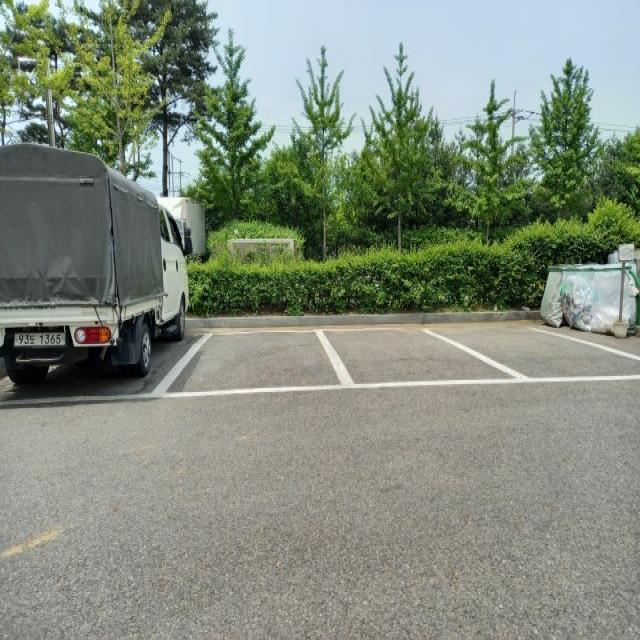empty: (419, 313, 640, 383), (161, 320, 347, 399), (308, 323, 523, 388)
occupied: (0, 144, 206, 387)
